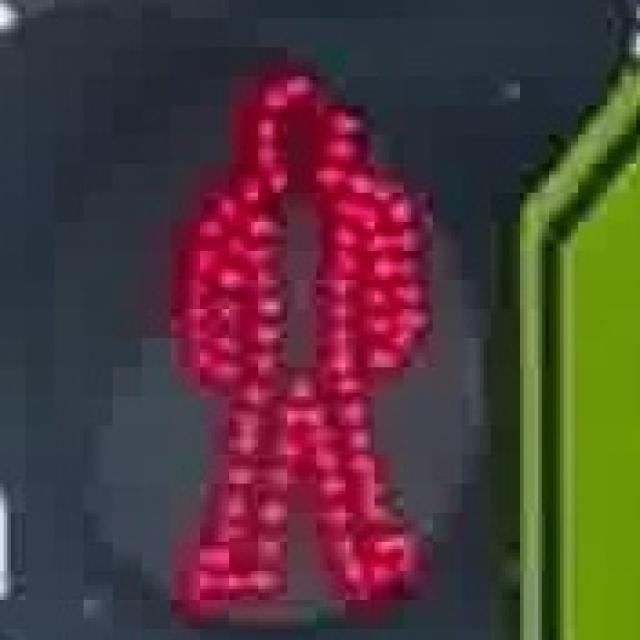red-crossing: (163, 48, 430, 608)
